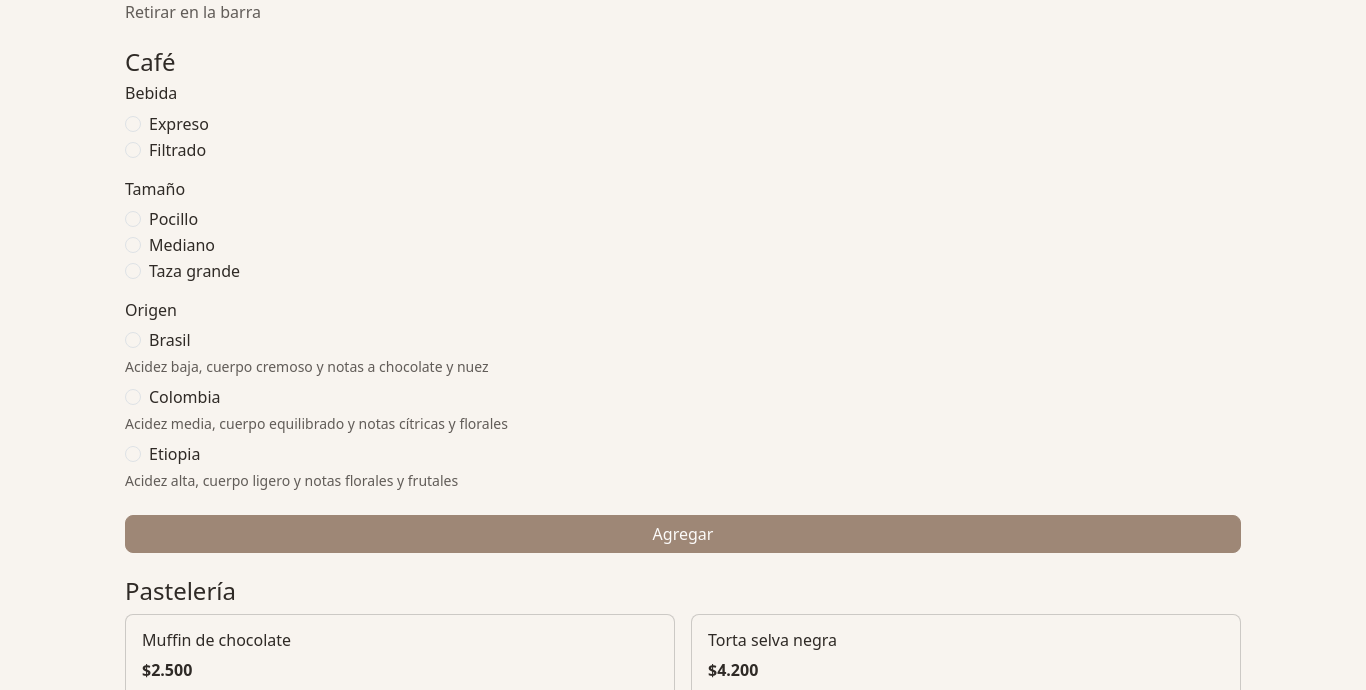
Test: Confirmar pedido › muestra un error de contrato y conserva el carrito
Click the radio button labelled "Expreso" at {"x": 133, "y": 124}, box [125,116,141,132]
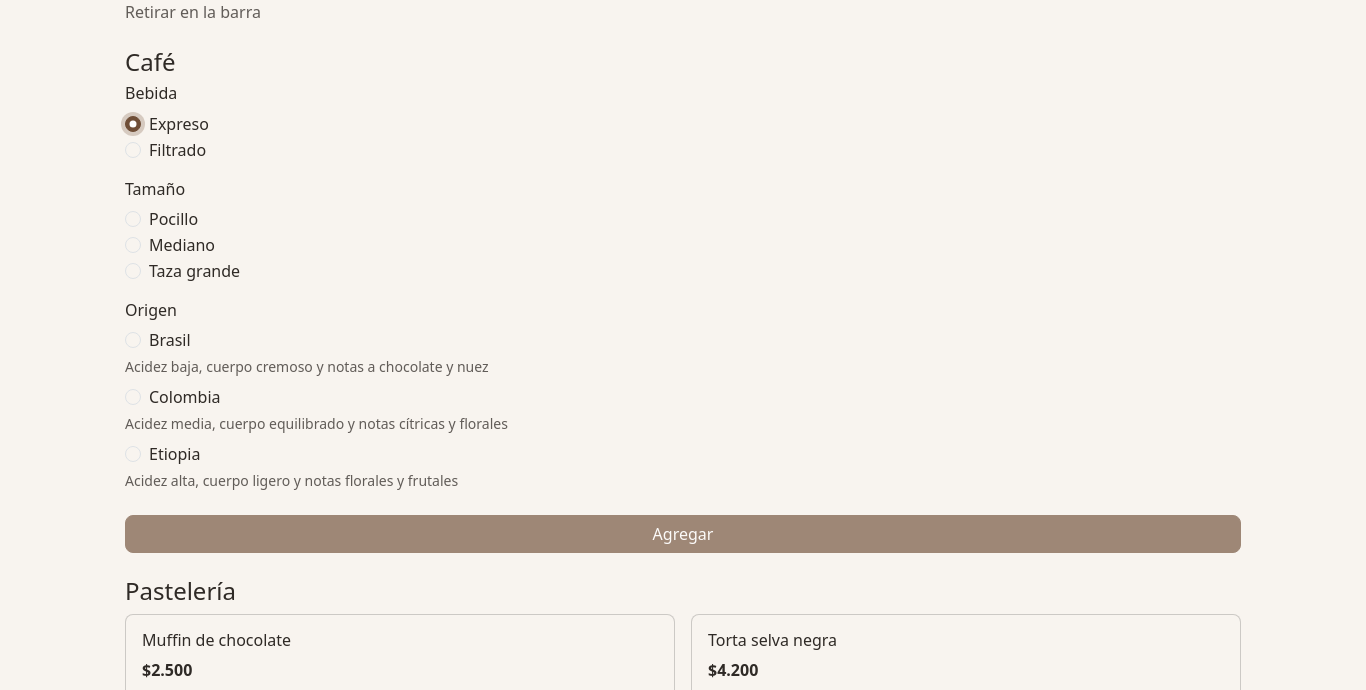
Click the radio button labelled "Mediano" at {"x": 133, "y": 245}, box [125,237,141,253]
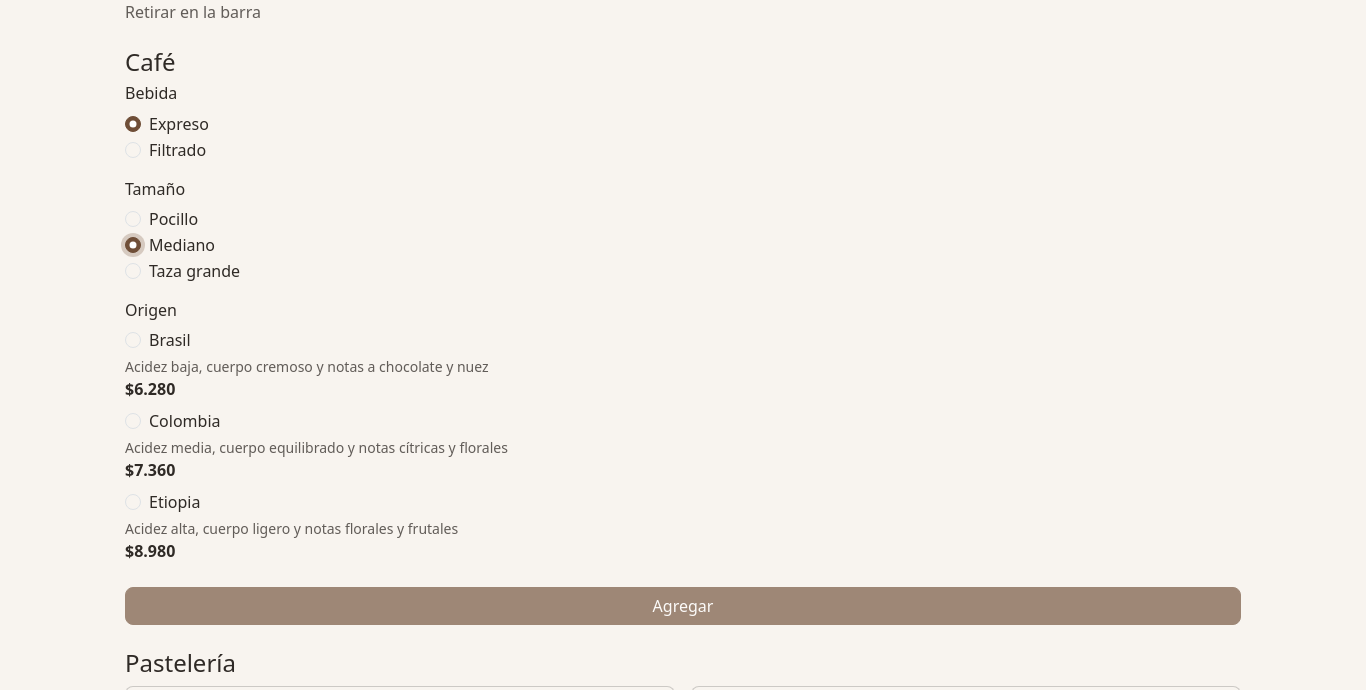
Click the radio button labelled "Colombia" at {"x": 133, "y": 421}, box [125,413,141,429]
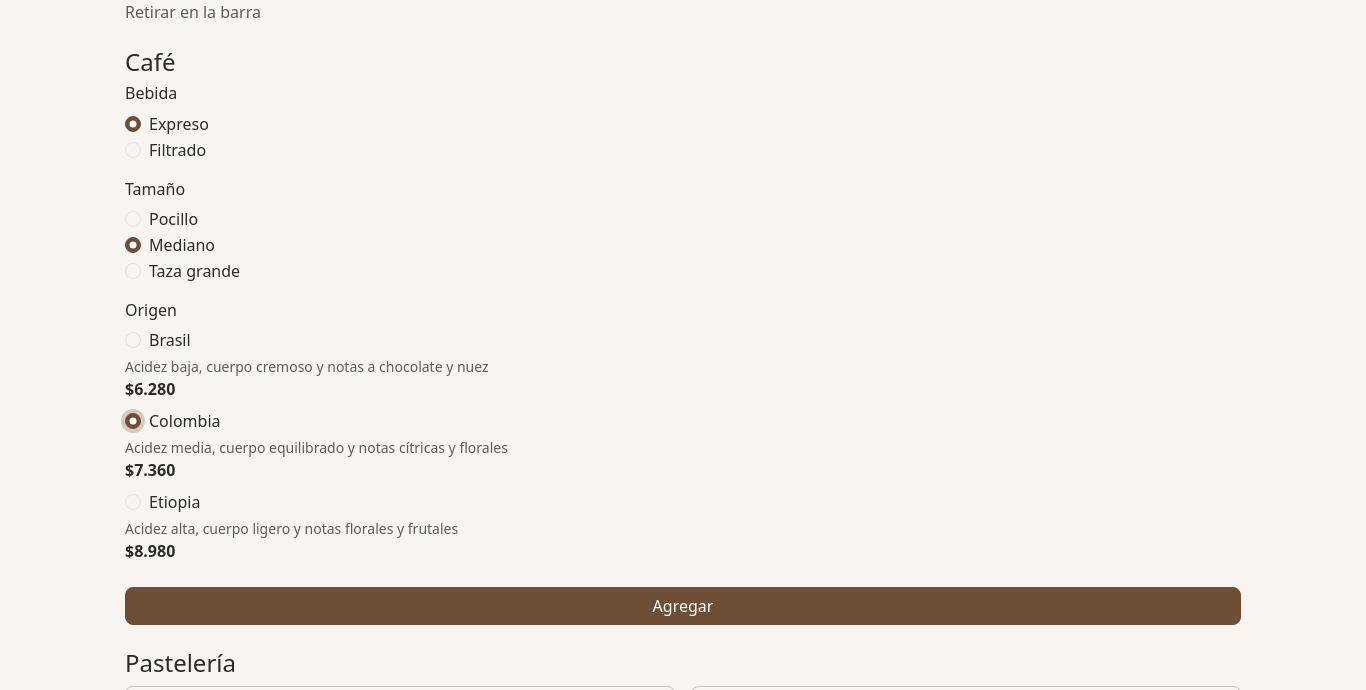
Click the button "Agregar" at {"x": 683, "y": 606}, box [125,587,1241,625]
(page scrolled)
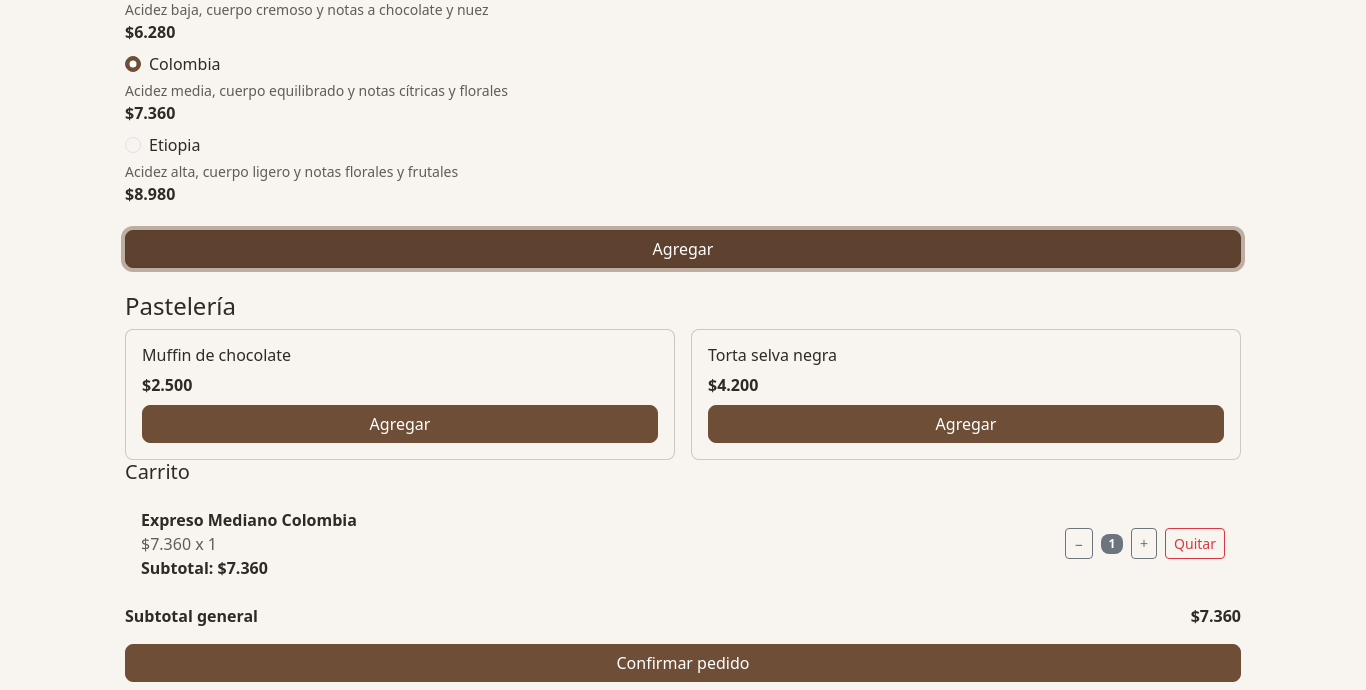
Click the button "Confirmar pedido" at {"x": 683, "y": 663}, box [125,644,1241,682]
(page scrolled)
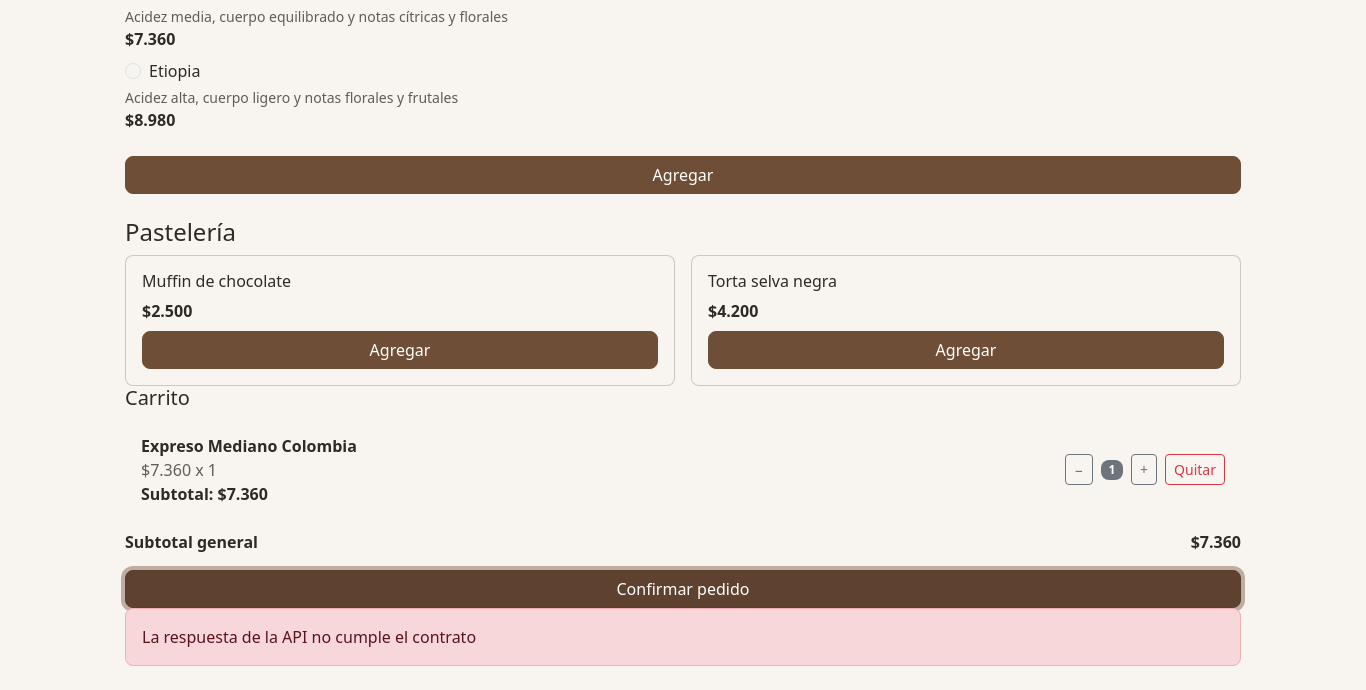
Expected: the text "La respuesta de la API no cumple el contrato" is shown, [125,608,1241,666]
